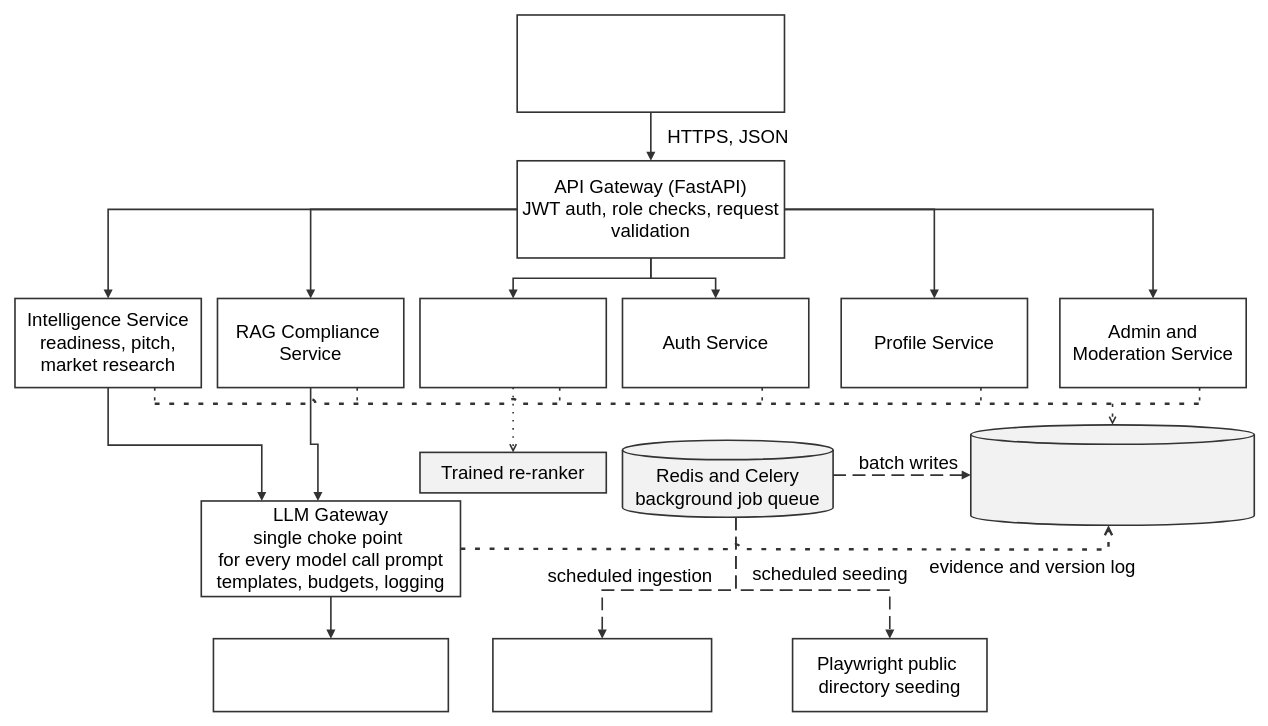
The diagram is 1268 pixels wide and 726 high, and some of its shapes have lost their labels. The box of each missing label's shape, as (x1, y1, x2, y2) in pixels:
Client (Next.js, React) Founder, talent, mentor, investor, admin dashboards: (516, 14, 785, 113)
Firecrawl (hosted API) regulatory and market page retrieval: (492, 637, 712, 712)
Gemini (Google AI Studio): (212, 637, 449, 712)
Matching & Ranking Service cosine similarity baseline: (419, 297, 607, 388)
PostgreSQL with pgvector relational data and embeddings, one store: (970, 424, 1255, 526)
